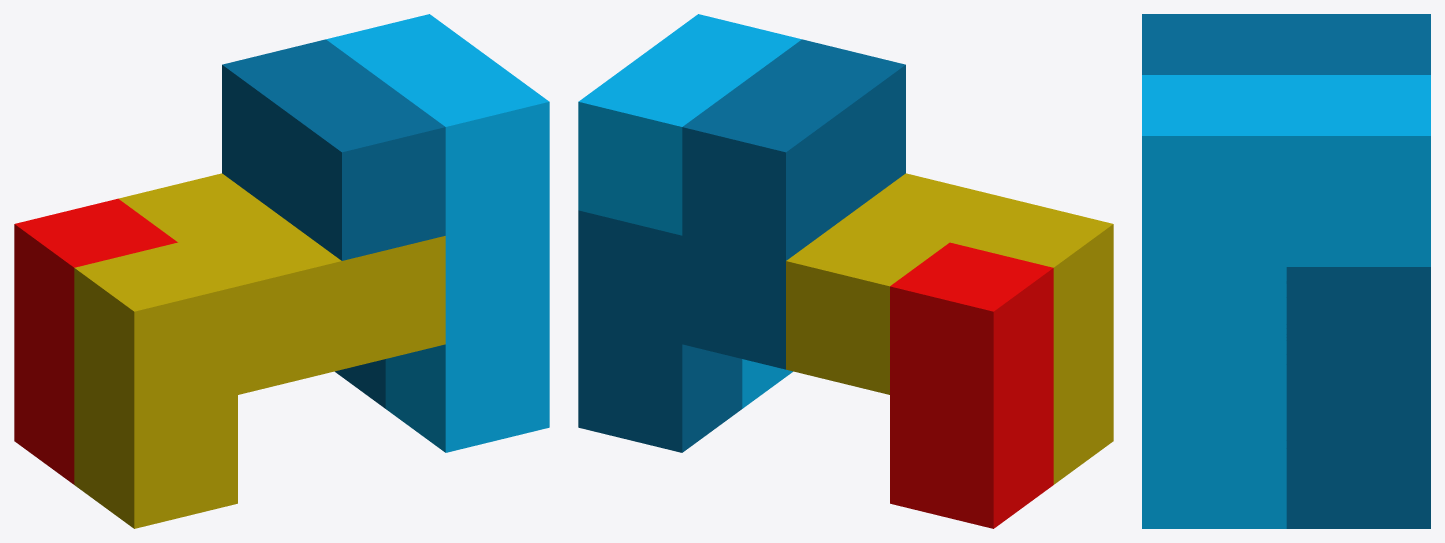
The picture shows the model from 3 angles, left to right: view 1: azimuth 30°, elevation 25°; view 2: azimuth 150°, elevation 25°; view 3: azimuth 270°, elevation 25°; orthographic projection. The views are drawn at different scales.
Parts seen in each view (by area): view 1: mergedBlocks(Clone); view 2: mergedBlocks(Clone); view 3: mergedBlocks(Clone).
Boxes of the visible parts, bbox=[...] form: mergedBlocks(Clone): bbox=[14, 14, 549, 528]; mergedBlocks(Clone): bbox=[578, 14, 1113, 528]; mergedBlocks(Clone): bbox=[1142, 14, 1430, 528].
Bounding box in the file's own units: 4 × 3 × 2.
Materials: 4 (4 with a texture image).
